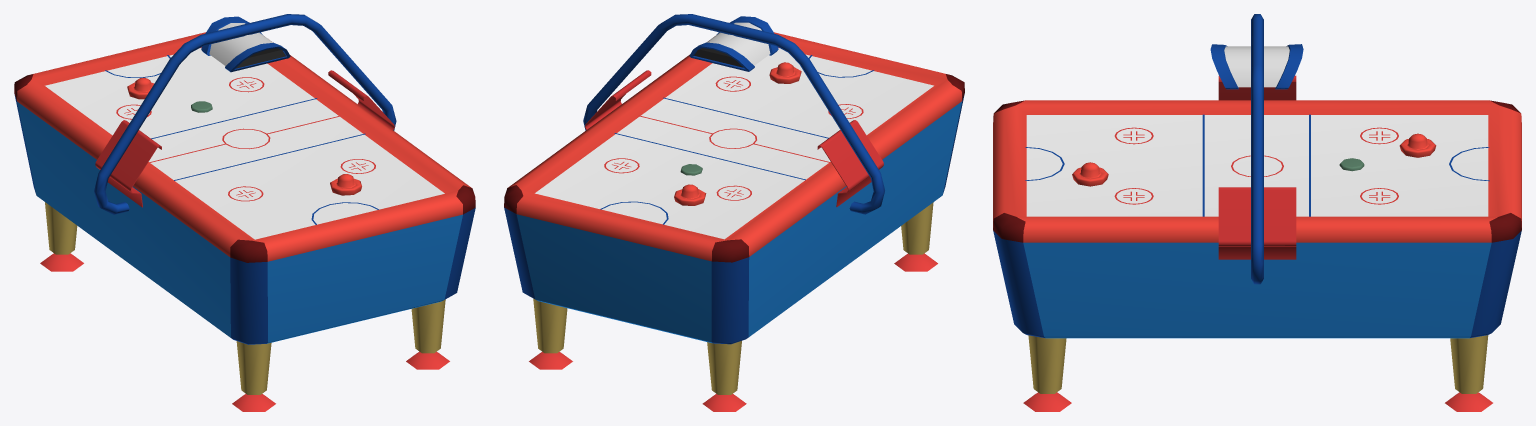
The model's file is entertainment_014.fbx.
3 views of the same model, side by side, from view 1: azimuth 30°, elevation 25°; view 2: azimuth 150°, elevation 25°; view 3: azimuth 270°, elevation 25° (orthographic). The views are drawn at different scales.
Visible parts, largest first — view 1: entertainment_014; view 2: entertainment_014; view 3: entertainment_014.
Boxes of the visible parts, x1,y1,x2,y2 form: entertainment_014: (14, 14, 475, 411); entertainment_014: (504, 14, 964, 411); entertainment_014: (993, 14, 1521, 411).
Bounding box in the file's own units: 164 × 228 × 150.
